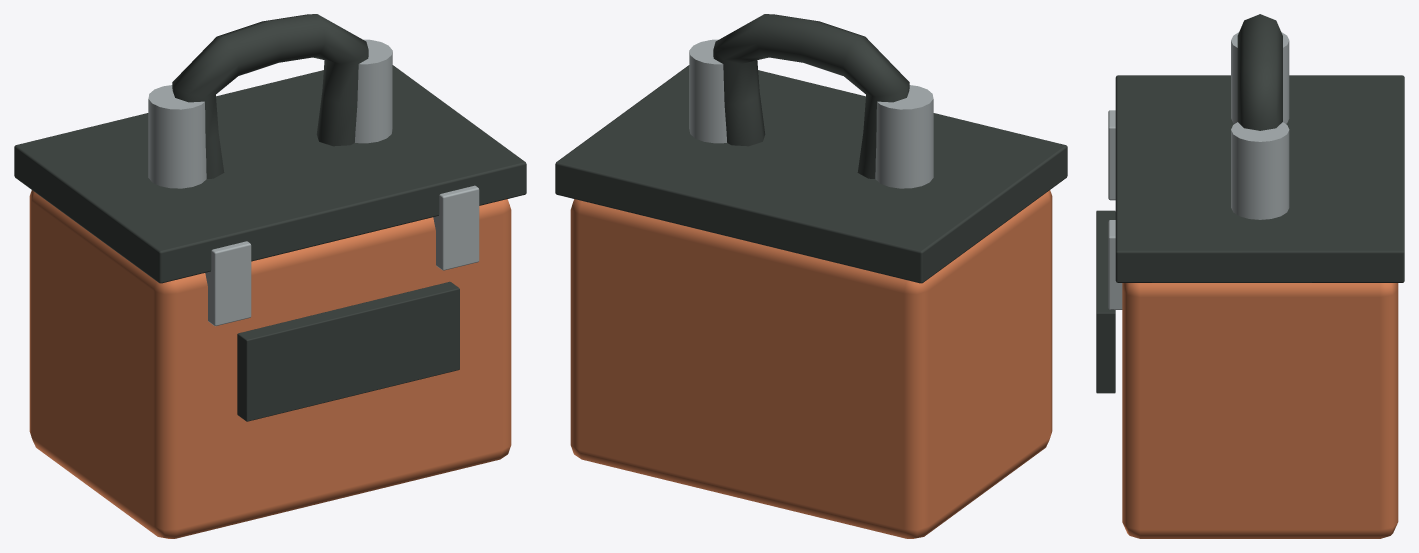
The model's file is extraction-routes-and-objectives-data-recorder-case-7ad91ba6__22149.glb.
3 renders of one model, left to right at view 1: azimuth 30°, elevation 25°; view 2: azimuth 150°, elevation 25°; view 3: azimuth 270°, elevation 25°, orthographic.
Visible parts, largest first — view 1: data-recorder-case, lid/dark; view 2: data-recorder-case, lid/dark; view 3: data-recorder-case, lid/dark.
Part boxes in pixels (x1,y1,x2,y2): data-recorder-case: [29, 14, 511, 538]; lid/dark: [14, 65, 526, 283]; data-recorder-case: [570, 14, 1052, 538]; lid/dark: [555, 65, 1067, 283]; data-recorder-case: [1096, 14, 1398, 538]; lid/dark: [1115, 75, 1404, 282].
Size of the model in its own units: 0.258 by 0.2908 by 0.19.
